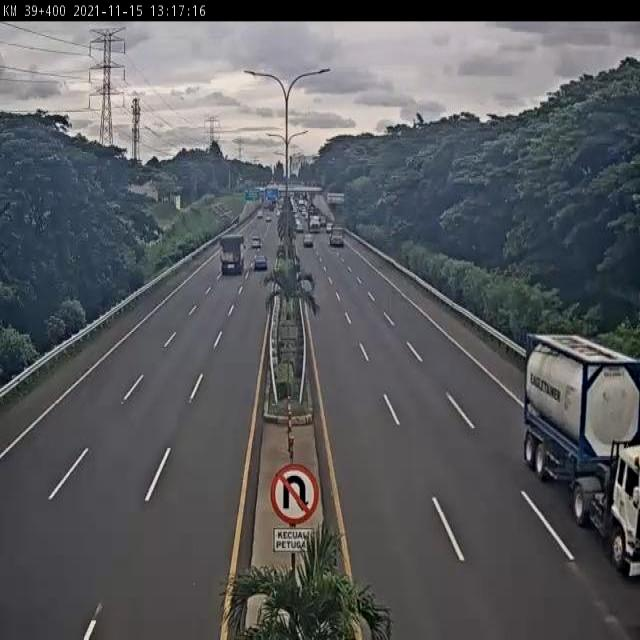Car: (254, 255, 268, 271), (250, 235, 262, 249), (303, 234, 313, 248), (326, 222, 334, 234), (296, 224, 304, 234)
Truck: (524, 330, 640, 579), (218, 232, 246, 274), (329, 224, 346, 248), (307, 213, 321, 234), (257, 208, 263, 220)
